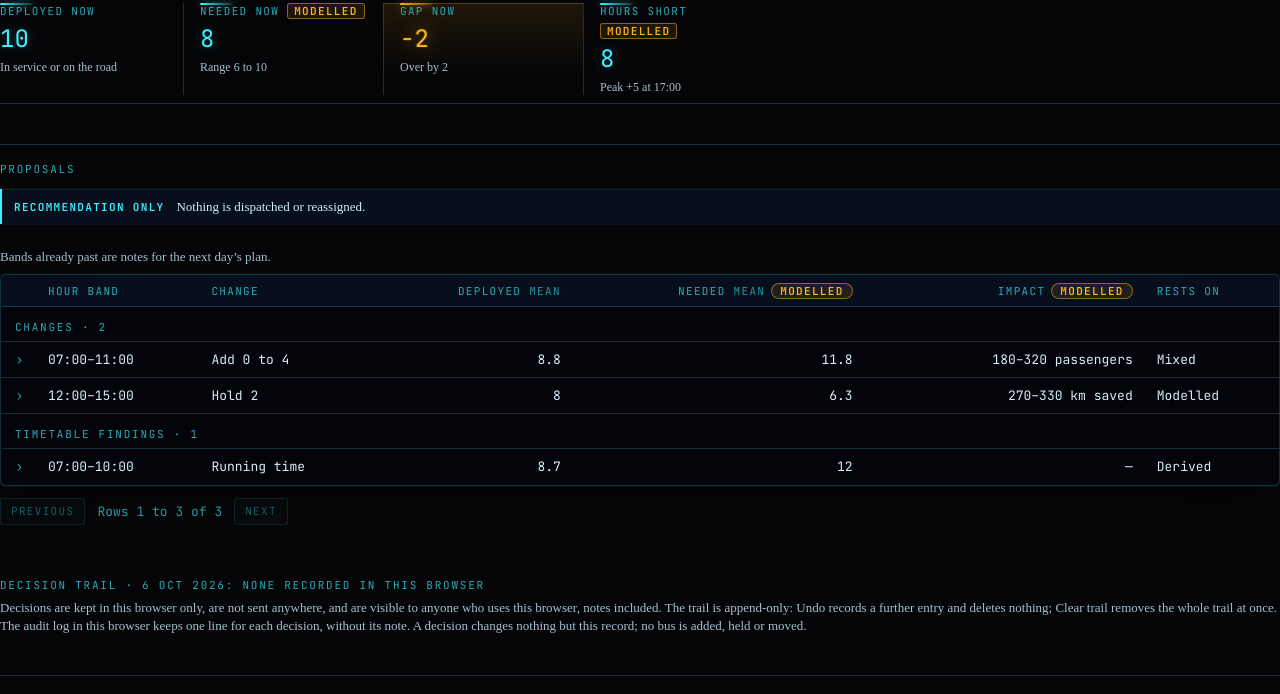
Test case: RouteHourlyPage body › opens a row to its full reason and impact ranges
This screenshot has width=1280, height=694.
(page scrolled)
Click the row "› 07:00–11:00 Add 0 to 4 8.8 11.8 180–320 passengers Mixed".
click(640, 360)  # box [1,342,1279,378]
(page scrolled)
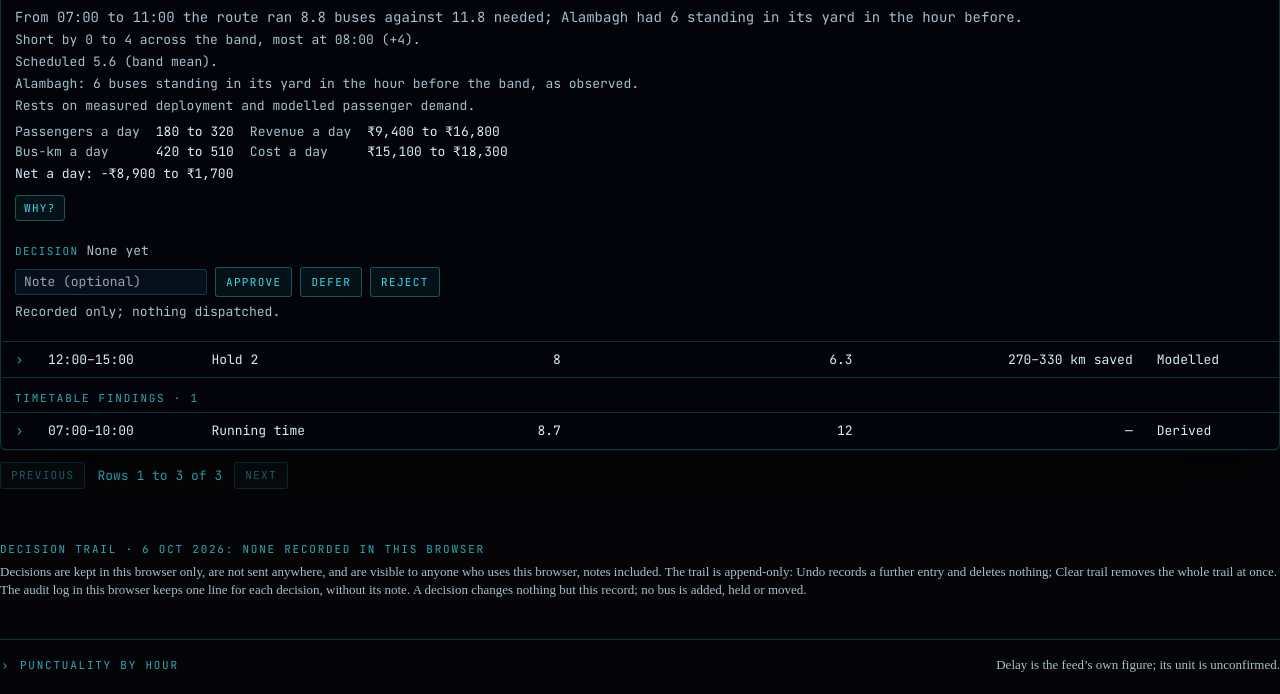
Click the row "› 12:00–15:00 Hold 2 8 6.3 270–330 km saved Modelled".
click(640, 360)  # box [1,342,1279,378]
(page scrolled)
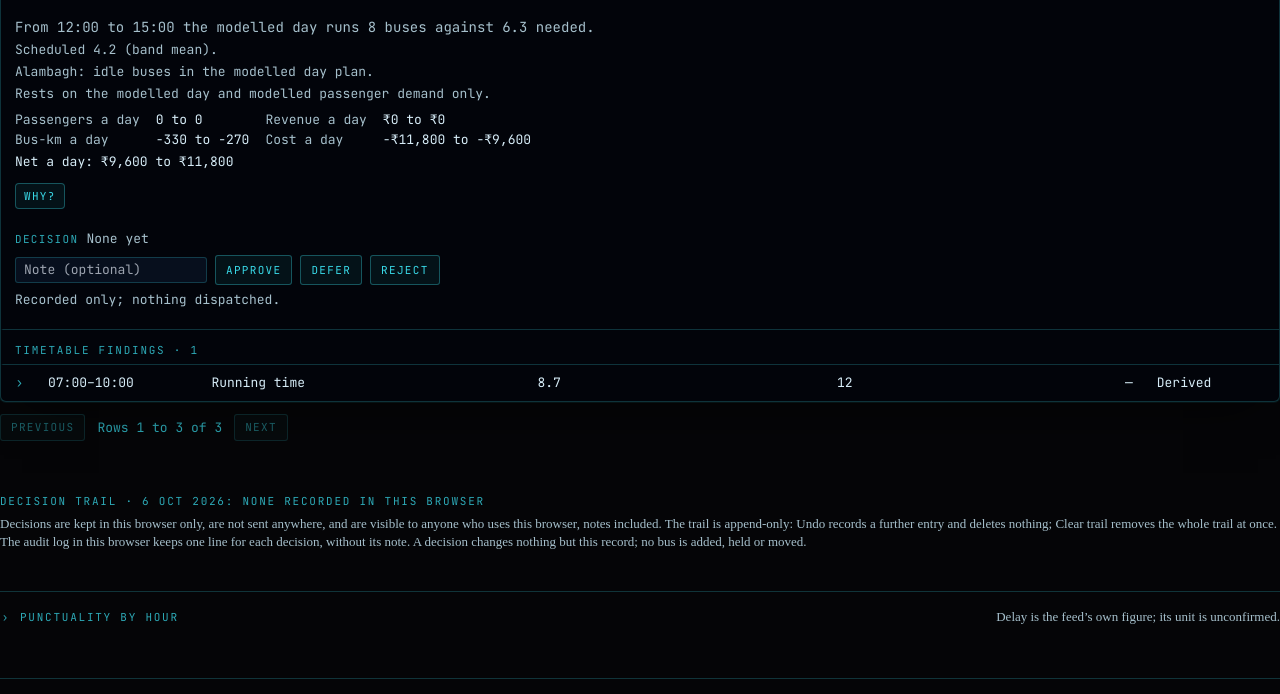
Click the row "› 07:00–10:00 Running time 8.7 12 — Derived".
click(91, 382)  # box [1,365,1279,401]
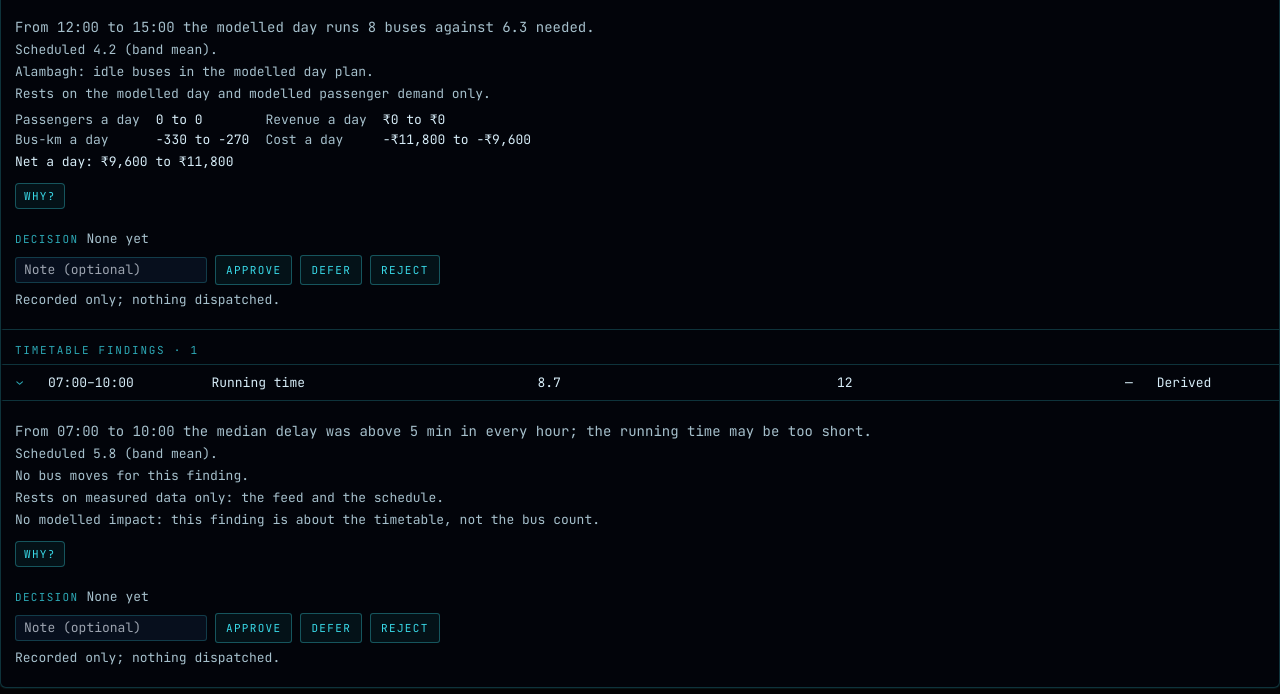
Check: the element with test id "proposal-detail" shows "No modelled impact", box [15,511,600,528]
